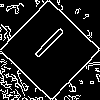I: (25, 25, 67, 68)
